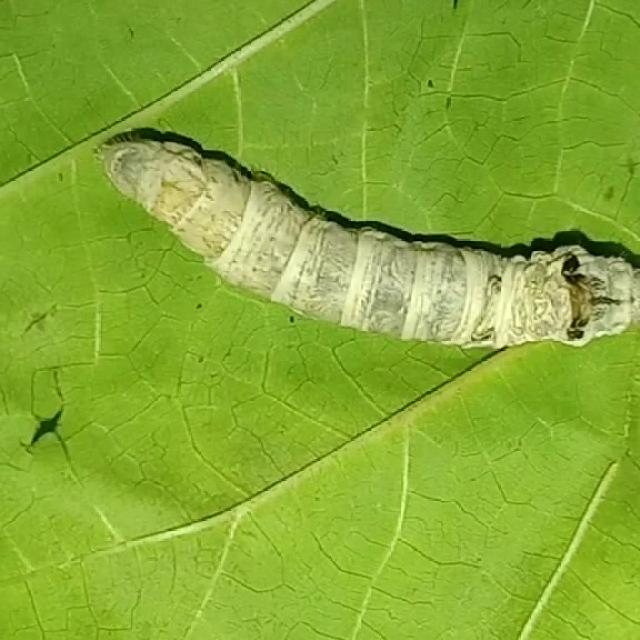Grasserie: (61, 102, 640, 436)
